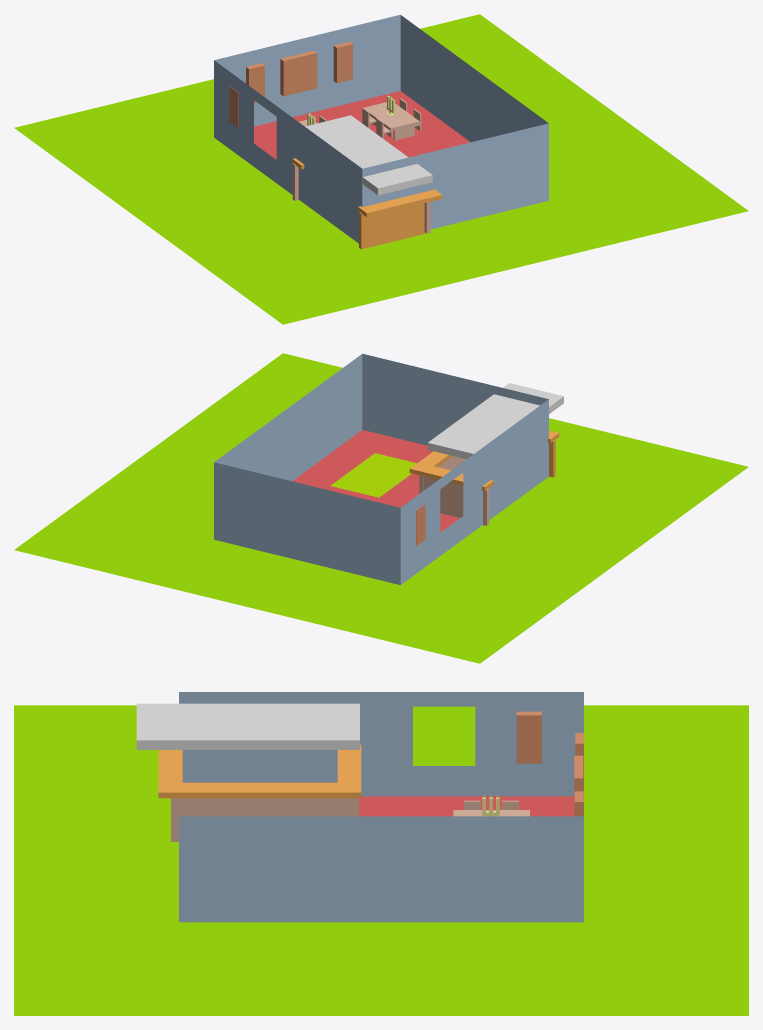
File: blockin.fbx
The picture shows the model from 3 angles, top to bottom: view 1: azimuth 30°, elevation 25°; view 2: azimuth 150°, elevation 25°; view 3: azimuth 270°, elevation 25°; orthographic projection. The views are drawn at different scales.
Parts seen in each view (by area): view 1: Plane.001, box, box_v1, Cube.004, box.001, Cube.010, table_chairs, Cube.005, Cube.007, Cube.009; view 2: Plane.001, box, box_v1, box.001, Cube.004, Plane, Cube.003; view 3: Plane.001, box_v1, box, Cube.004, Cube.001, box.001, Cube, Cube.008, Cube.002, Cube.009.
Part boxes in pixels (box(x1,y1,x2,y2)): Plane.001: box(14, 14, 748, 324); box: box(214, 14, 400, 243); box_v1: box(362, 15, 548, 229); Cube.004: box(305, 115, 432, 195); box.001: box(254, 91, 470, 159); Cube.010: box(359, 203, 424, 249); table_chairs: box(362, 98, 421, 140); Cube.005: box(280, 50, 317, 96); Cube.007: box(333, 42, 352, 83); Cube.009: box(358, 193, 426, 216); Plane.001: box(14, 353, 748, 663); box: box(214, 399, 548, 584); box_v1: box(214, 353, 548, 481); box.001: box(292, 430, 459, 532); Cube.004: box(427, 383, 563, 459); Plane: box(330, 453, 416, 497); Cube.003: box(423, 476, 489, 525); Plane.001: box(14, 705, 748, 1015); box_v1: box(179, 816, 583, 922); box: box(179, 692, 583, 796); Cube.004: box(136, 703, 359, 749); Cube.001: box(171, 798, 354, 841); box.001: box(359, 796, 583, 816); Cube: box(158, 782, 361, 798); Cube.008: box(516, 711, 541, 763); Cube.002: box(337, 744, 361, 782); Cube.009: box(158, 750, 182, 782).
Bounding box in the file's own units: 5696 × 918 × 5696.
